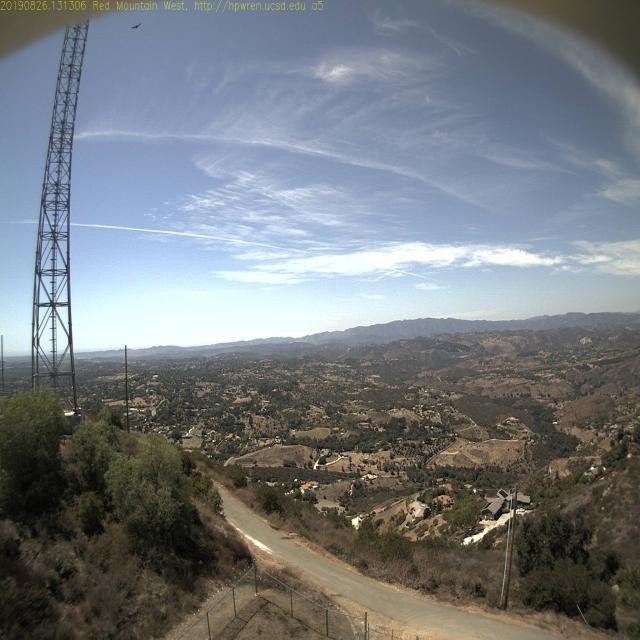smoke: (295, 333, 310, 346)
